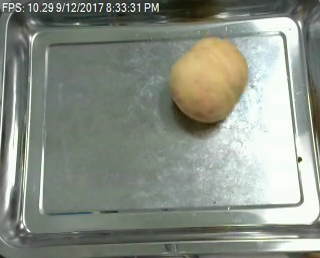Peach: (170, 36, 249, 123)
